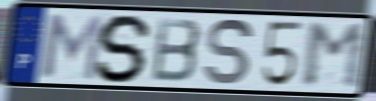5: (260, 19, 306, 88)
B: (150, 16, 205, 85)
M: (40, 11, 106, 83), (301, 22, 367, 91)
S: (93, 12, 156, 85), (203, 16, 256, 88)
